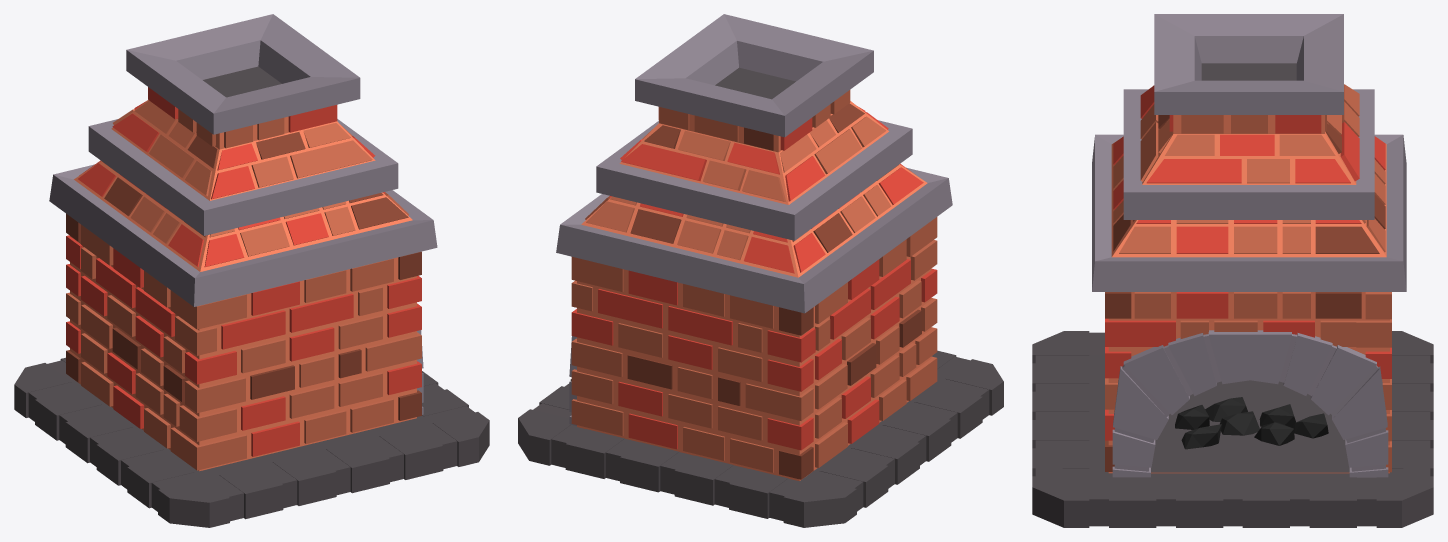
Rendered from fornalha.fbx.
The picture shows the model from 3 angles, left to right: view 1: azimuth 30°, elevation 25°; view 2: azimuth 150°, elevation 25°; view 3: azimuth 270°, elevation 25°; orthographic projection. The views are drawn at different scales.
Visible parts, largest first — view 1: Cube.023, Cube.013, Cube.010, Cube.016, Cube.018, Cube.029, Cube.035, Cube.024, Cube.033, Cube.036, Cube.020, Cube.015 (+4 smaller); view 2: Cube.023, Cube.015, Cube.013, Cube.016, Cube.019, Cube.027, Cube.024, Cube.037, Cube.033, Cube.038, Cube.020, Cube.010 (+4 smaller); view 3: Cube.023, Cube.013, Cube.012, Cube.017, Cube.021, Coal.002, Cube.031, Cube.022, Cube.032, Cube.042, Cube.010, Cube.015 (+8 smaller).
Part boxes in pixels (x1,y1,x2,y2): Cube.023: (49, 14, 437, 471); Cube.013: (14, 357, 489, 527); Cube.010: (179, 275, 421, 470); Cube.016: (81, 247, 188, 461); Cube.018: (185, 251, 421, 329); Cube.029: (204, 197, 408, 266); Cube.035: (211, 140, 372, 199); Cube.024: (78, 163, 203, 267); Cube.033: (112, 113, 211, 196); Cube.036: (217, 123, 350, 170); Cube.020: (81, 224, 185, 320); Cube.015: (66, 235, 82, 382); Cube.023: (556, 14, 952, 481); Cube.015: (571, 280, 815, 479); Cube.013: (518, 350, 1003, 527); Cube.016: (815, 249, 925, 467); Cube.019: (571, 256, 813, 335); Cube.027: (586, 201, 794, 273); Cube.024: (793, 167, 923, 272); Cube.037: (621, 144, 786, 201); Cube.033: (785, 116, 886, 201); Cube.038: (644, 125, 779, 174); Cube.020: (815, 226, 925, 323); Cube.010: (915, 240, 937, 389); Cube.023: (1092, 14, 1406, 473); Cube.013: (1032, 331, 1433, 527); Cube.012: (1112, 330, 1388, 477); Cube.017: (1119, 226, 1379, 253); Cube.021: (1134, 292, 1361, 318); Coal.002: (1175, 397, 1328, 449); Cube.031: (1146, 159, 1350, 183); Cube.022: (1135, 320, 1356, 346); Cube.032: (1165, 134, 1335, 155); Cube.042: (1181, 115, 1321, 133); Cube.010: (1105, 318, 1135, 471); Cube.015: (1356, 319, 1391, 472).
Size of the model in its own units: 504 by 539 by 504.
